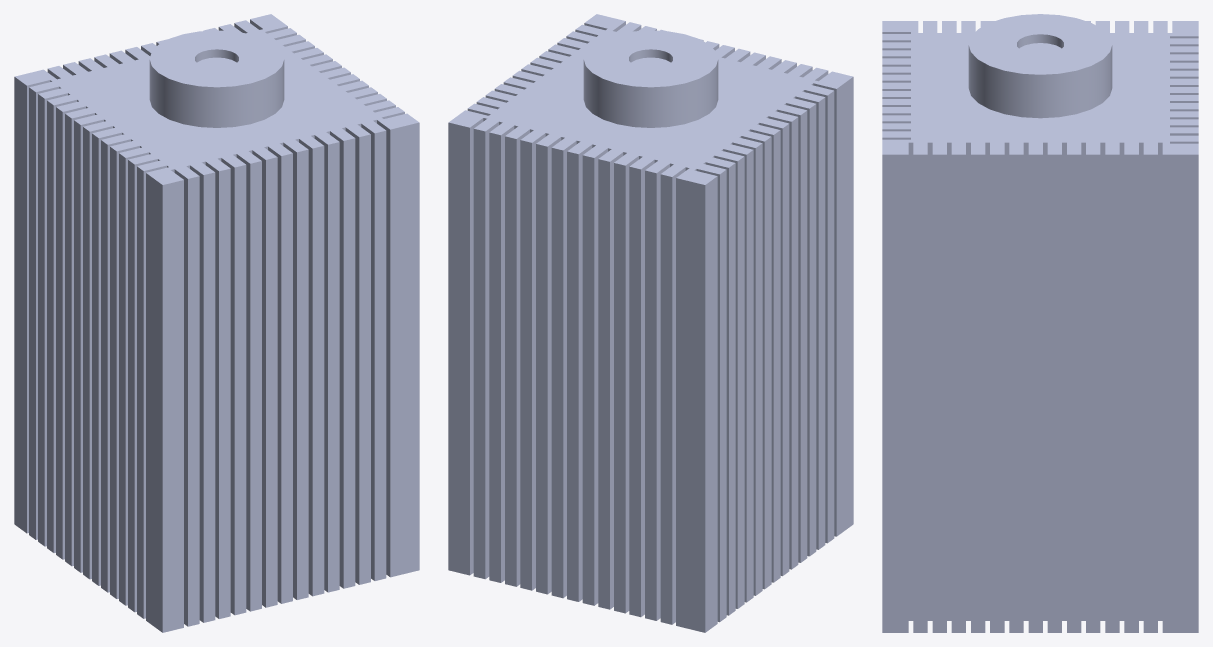
The model's file is laser.FBX.
The picture shows the model from 3 angles, left to right: view 1: azimuth 30°, elevation 25°; view 2: azimuth 150°, elevation 25°; view 3: azimuth 270°, elevation 25°; orthographic projection. The views are drawn at different scales.
Visible parts, largest first — view 1: stitch_result_stitch all; view 2: stitch_result_stitch all; view 3: stitch_result_stitch all.
Part boxes in pixels (box(x1,y1,x2,y2)): stitch_result_stitch all: box(14, 14, 419, 632); stitch_result_stitch all: box(448, 14, 853, 632); stitch_result_stitch all: box(882, 14, 1198, 632).
Bounding box in the file's own units: 1.3 × 2.36 × 1.3.
